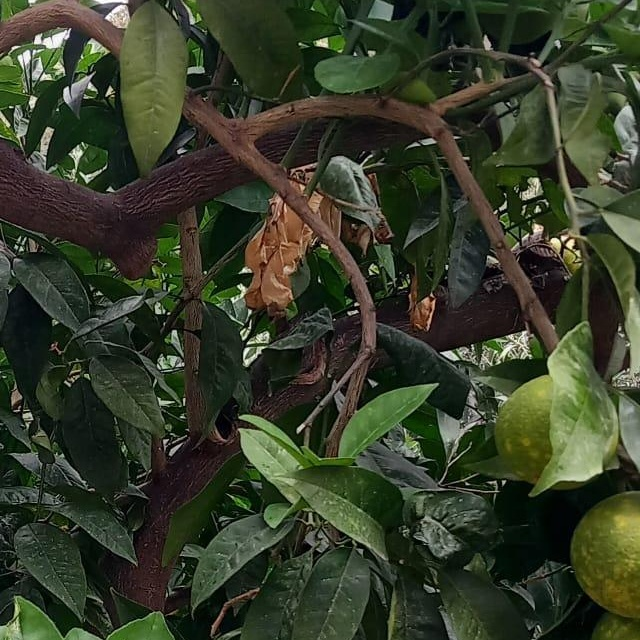orange: (493, 365, 623, 489), (562, 484, 640, 622), (581, 588, 640, 640)
